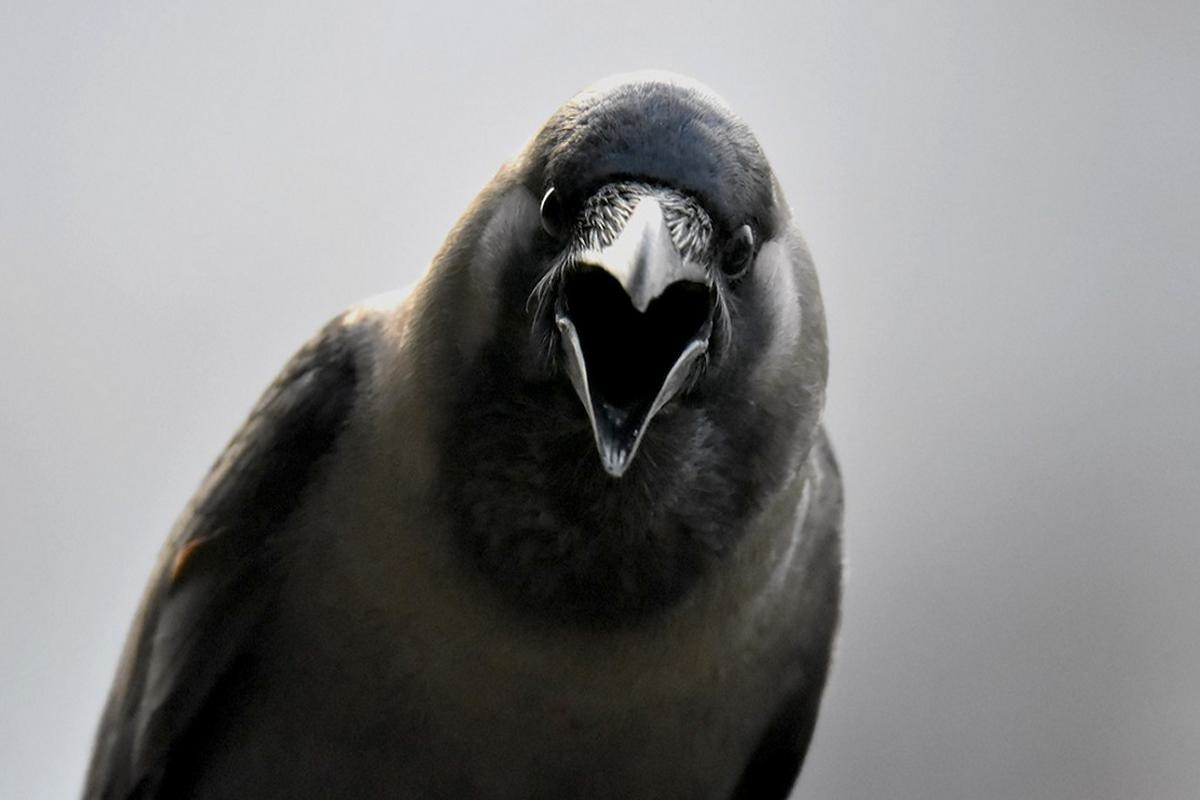crow: (56, 68, 888, 800)
